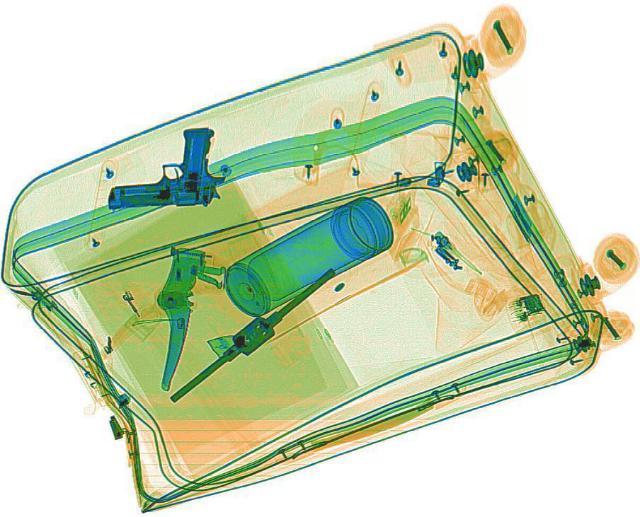Gun: (102, 127, 224, 209)
